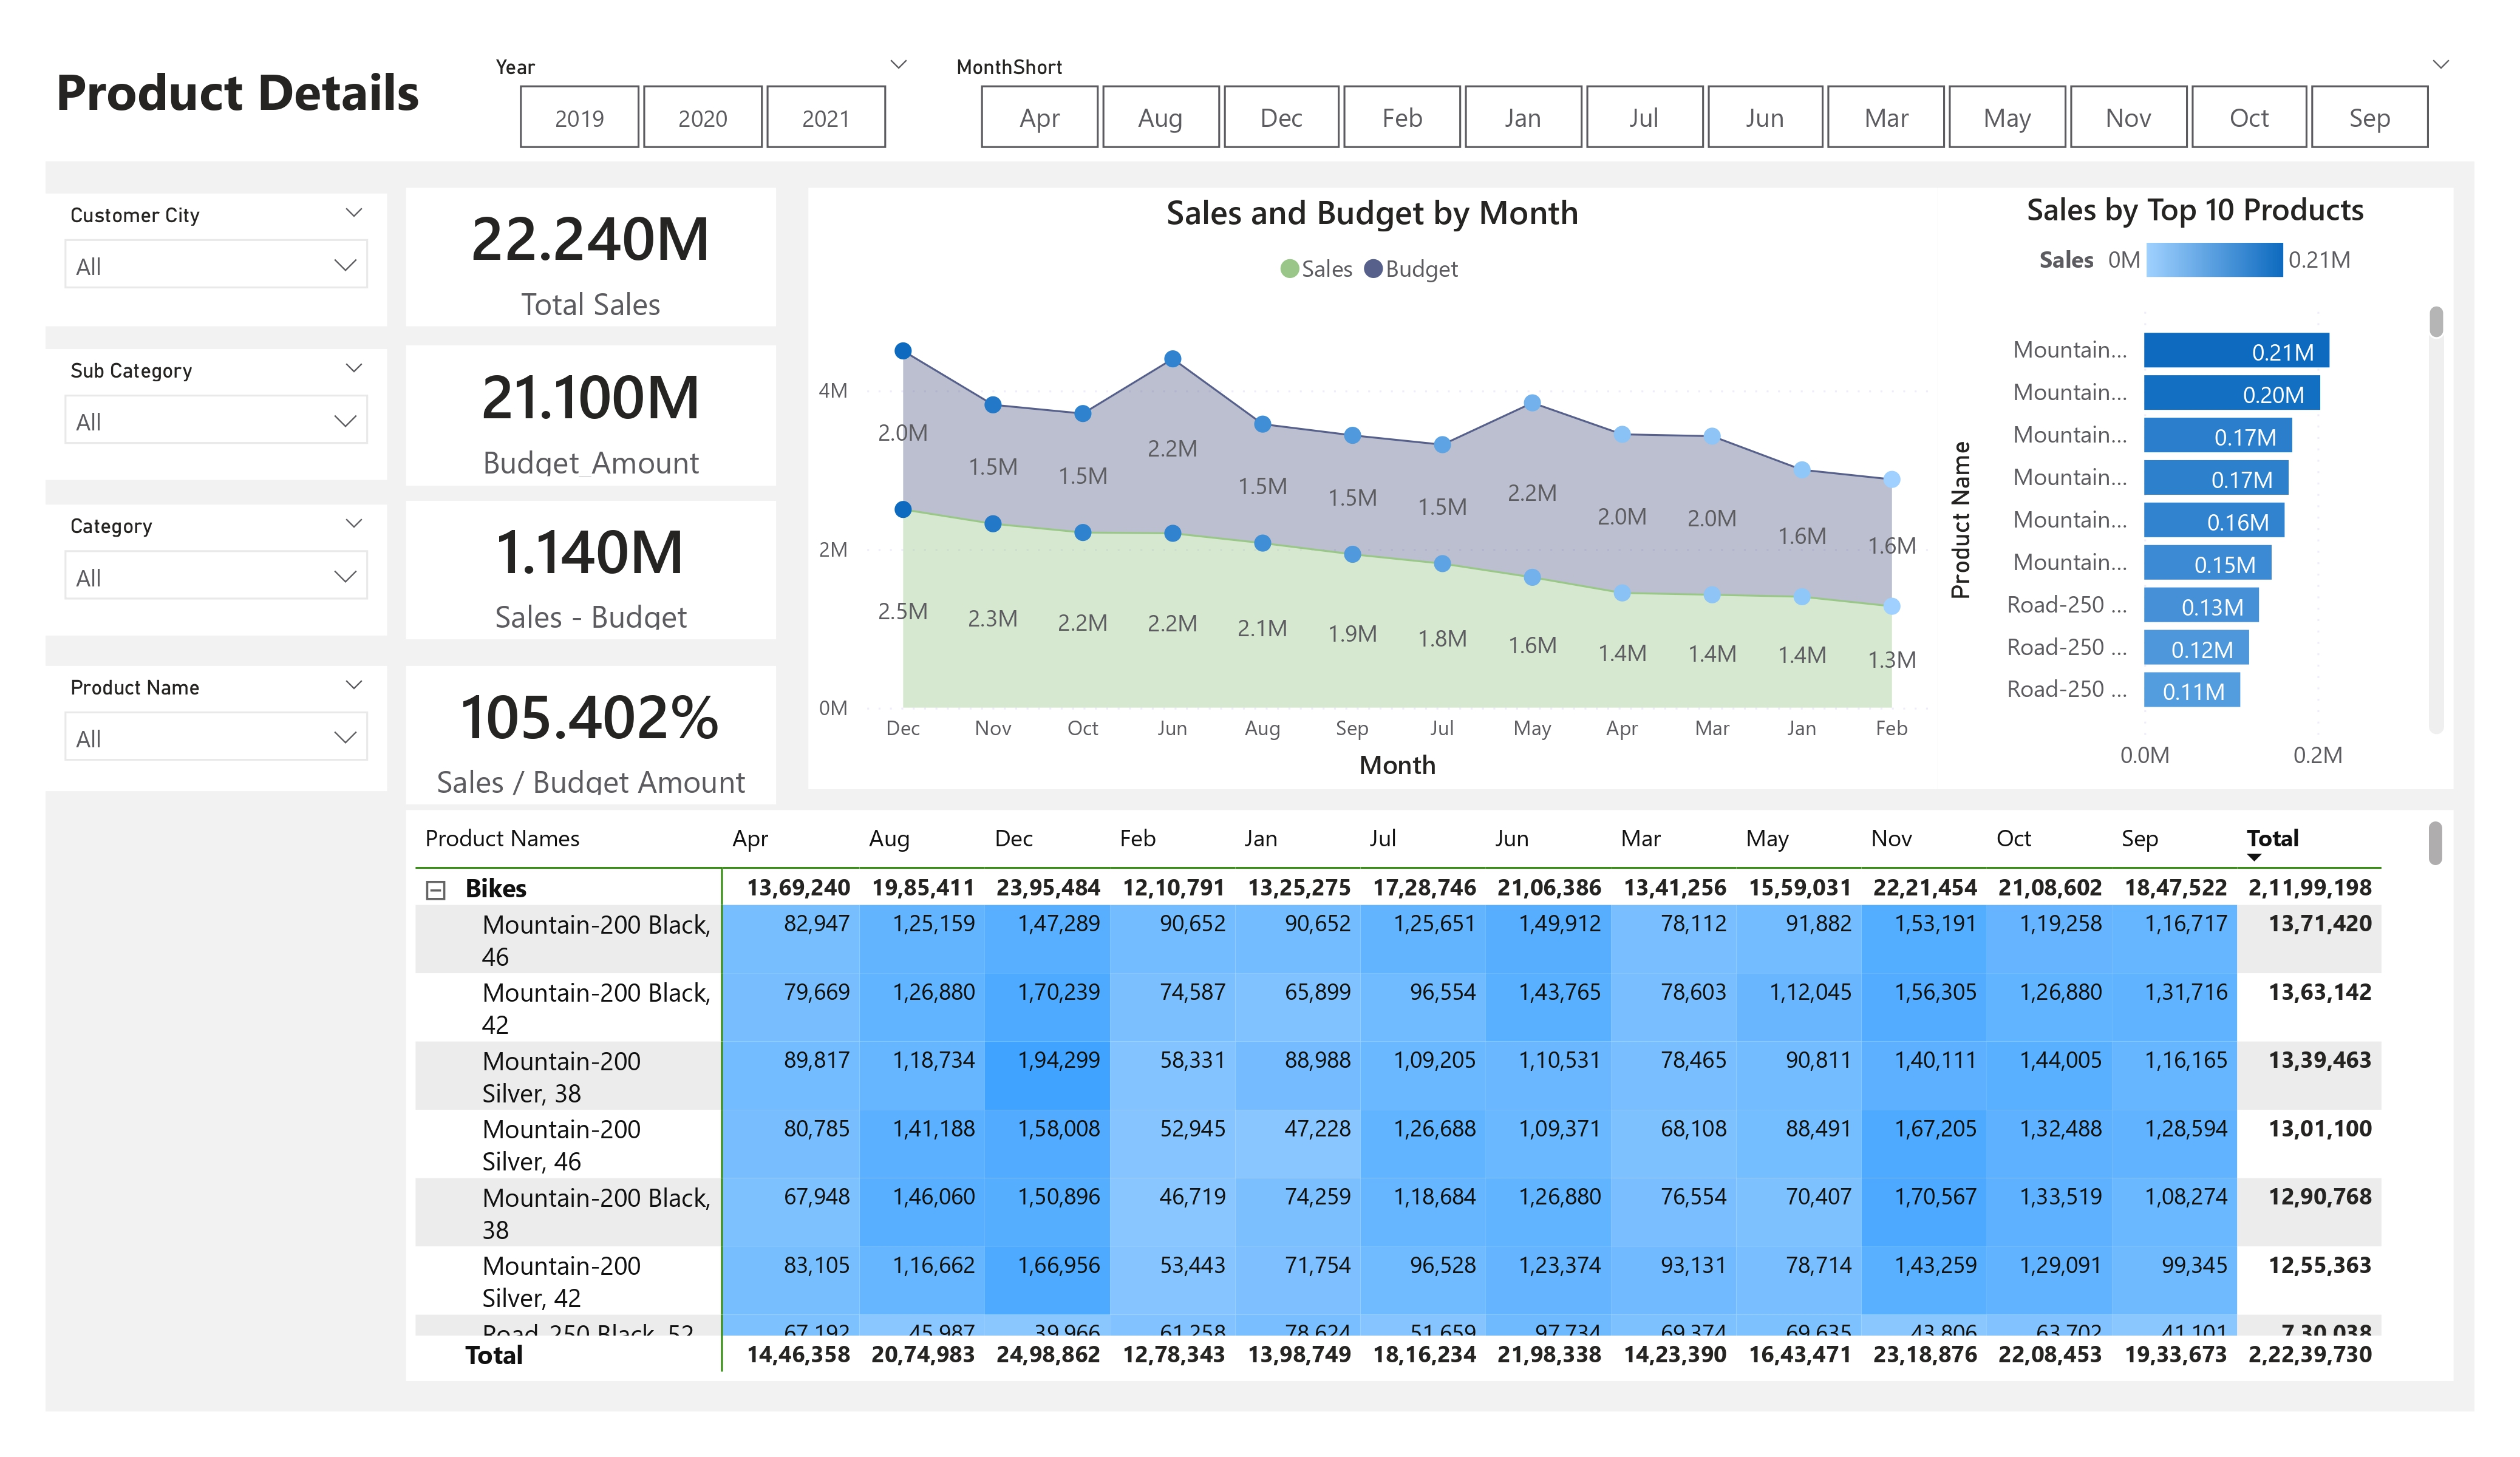

The dashboard page shown, as its layout file describes it:
{"tool":"powerbi","page":{"name":"Product Details","canvas":[1280,720],"ordinal":2},"visuals":[{"type":"textbox","box":[0,0,1280,61.1],"z":0},{"type":"slicer","fields":{"Values":["DIM_Customer.Customer City"]},"box":[0,77.8,179.6,70.6],"z":1000},{"type":"slicer","fields":{"Values":["DIM_Products.Sub Category"]},"box":[0,160.4,179.6,68.3],"z":2000},{"type":"slicer","fields":{"Values":["DIM_Products.Product Category"]},"box":[0,241.9,179.6,69.4],"z":3000},{"type":"slicer","fields":{"Values":["DIM_Products.Product Name"]},"box":[0,326.9,179.6,65.9],"z":4000},{"type":"slicer","fields":{"Values":["Dim_Date_Excel.Year"]},"box":[223.9,0,243.1,61.1],"z":5000},{"type":"slicer","fields":{"Values":["Dim_Date_Excel.MonthShort"]},"box":[467,0,813,61.1],"z":6000},{"type":"barChart","title":"Sales by Top 10 Products","fields":{"Y":["Key Measures.Sales"],"Category":["DIM_Products.Product Name"]},"box":[996.6,74.9,272.9,317.4],"z":7000},{"type":"pivotTable","fields":{"Values":["Key Measures.Sales"],"Columns":["Dim_Date_Excel.MonthShort"],"Rows":["DIM_Products.Product Category","DIM_Products.Product Name"]},"box":[189.7,402.9,1079.7,301],"z":8000},{"type":"card","title":"Total Sales","fields":{"Values":["Key Measures.Sales"]},"box":[189.7,74.9,195.6,72.6],"z":9000},{"type":"card","title":"Total Sales","fields":{"Values":["Key Measures.Sales - Budget"]},"box":[190,240,195,73.3],"z":10000},{"type":"stackedAreaChart","fields":{"Category":["Dim_Date_Excel.MonthShort"],"Y":["Key Measures.Sales","Key Measures.Budget_Amount"]},"box":[401.7,75,595,316.7],"z":11000},{"type":"card","title":"Total Sales","fields":{"Values":["Key Measures.Budget_Amount"]},"box":[190,158.3,195,73.3],"z":12000},{"type":"card","title":"Total Sales","fields":{"Values":["Key Measures.Sales / Budget Amount"]},"box":[190,326.7,195,73.3],"z":13000}]}

Visuals, with their boxes in screenshot pixels (x1, y1, x2, y2):
textbox: [46,46,2474,161]
slicer - DIM_Customer.Customer City: [46,193,386,327]
slicer - DIM_Products.Sub Category: [46,350,386,480]
slicer - DIM_Products.Product Category: [46,504,386,636]
slicer - DIM_Products.Product Name: [46,666,386,790]
slicer - Dim_Date_Excel.Year: [471,46,931,161]
slicer - Dim_Date_Excel.MonthShort: [931,46,2474,161]
"Sales by Top 10 Products" barChart: [1936,188,2454,790]
pivotTable - Key Measures.Sales x Dim_Date_Excel.MonthShort: [406,810,2454,1381]
"Total Sales" card: [406,188,777,325]
"Total Sales" card: [406,501,776,640]
stackedAreaChart - Dim_Date_Excel.MonthShort x Key Measures.Sales: [808,188,1937,789]
"Total Sales" card: [406,346,776,485]
"Total Sales" card: [406,665,776,804]
